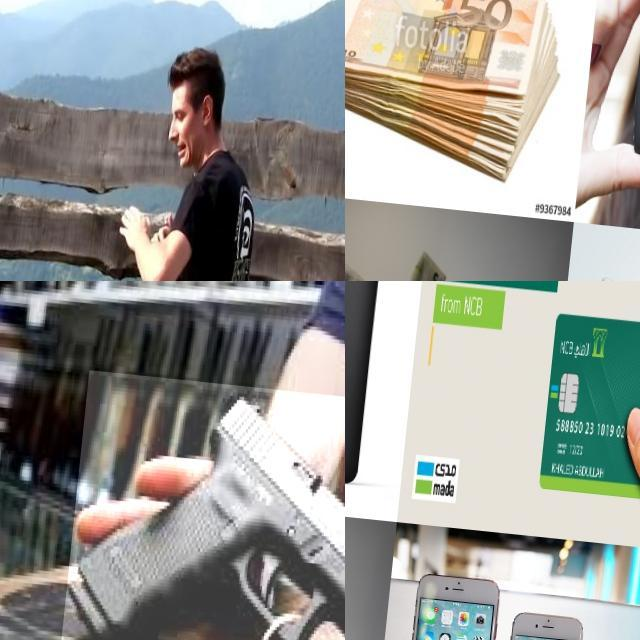-: (0, 144, 21, 271)
gun-knife-thesis - v11 Yolov5 augmented: (70, 367, 345, 640)
